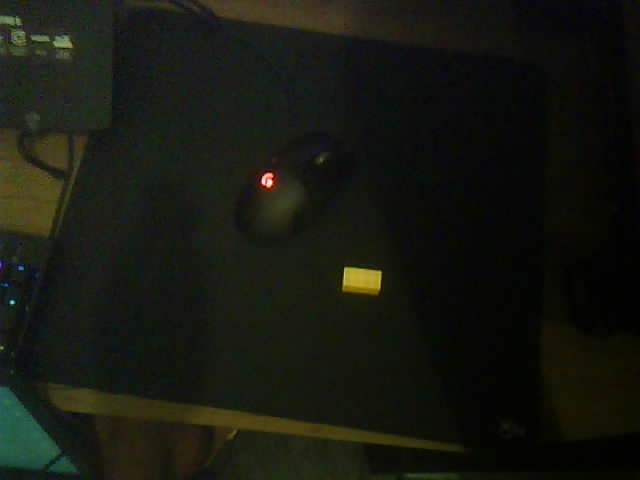lego: (341, 265, 383, 295)
